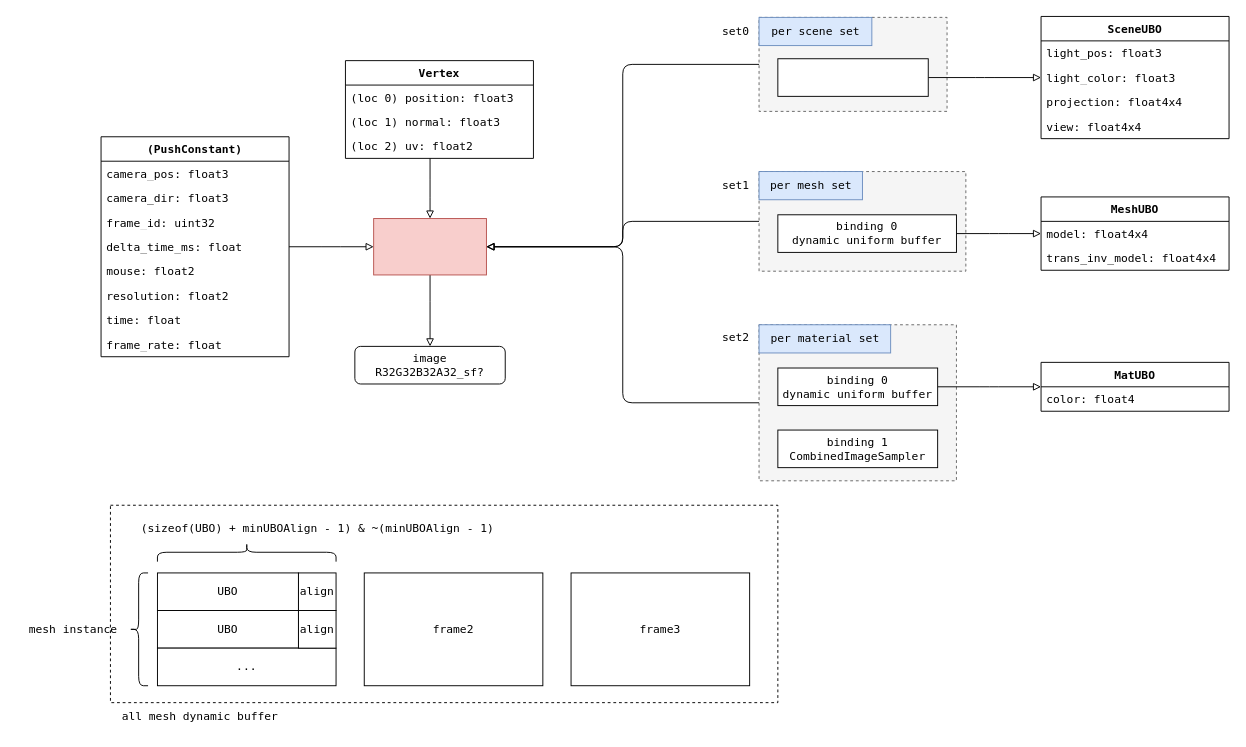
Some shapes in this 1246 by 747 pixel diagram are drawn without their labels. The shapes that lost their labels are listed below. From the top down, each one's centre as x and y in pixels, then its label:
At point 852,77: "binding 0 uniform buffer".
At point 429,246: "main pass".
